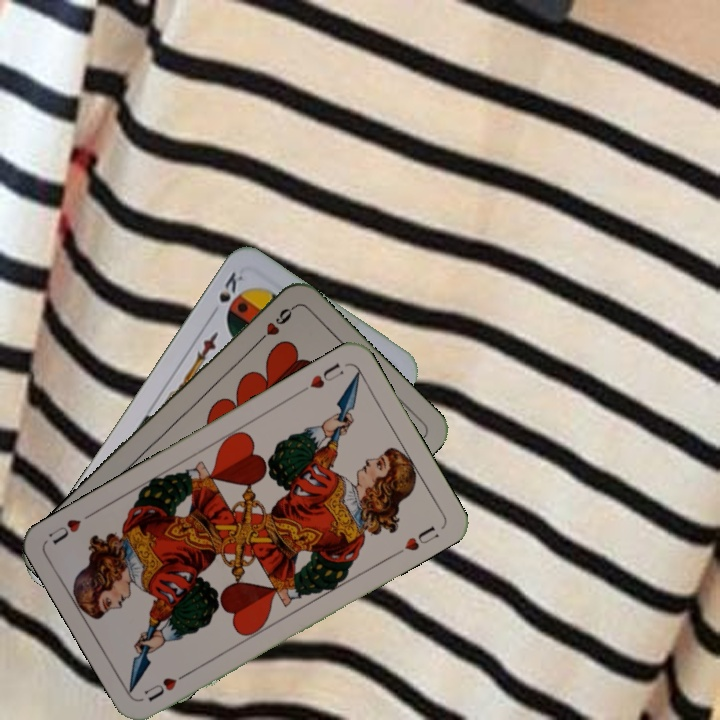H9: (251, 302, 297, 348)
HU: (139, 667, 193, 704), (295, 358, 347, 396)
SK: (206, 267, 247, 320)
